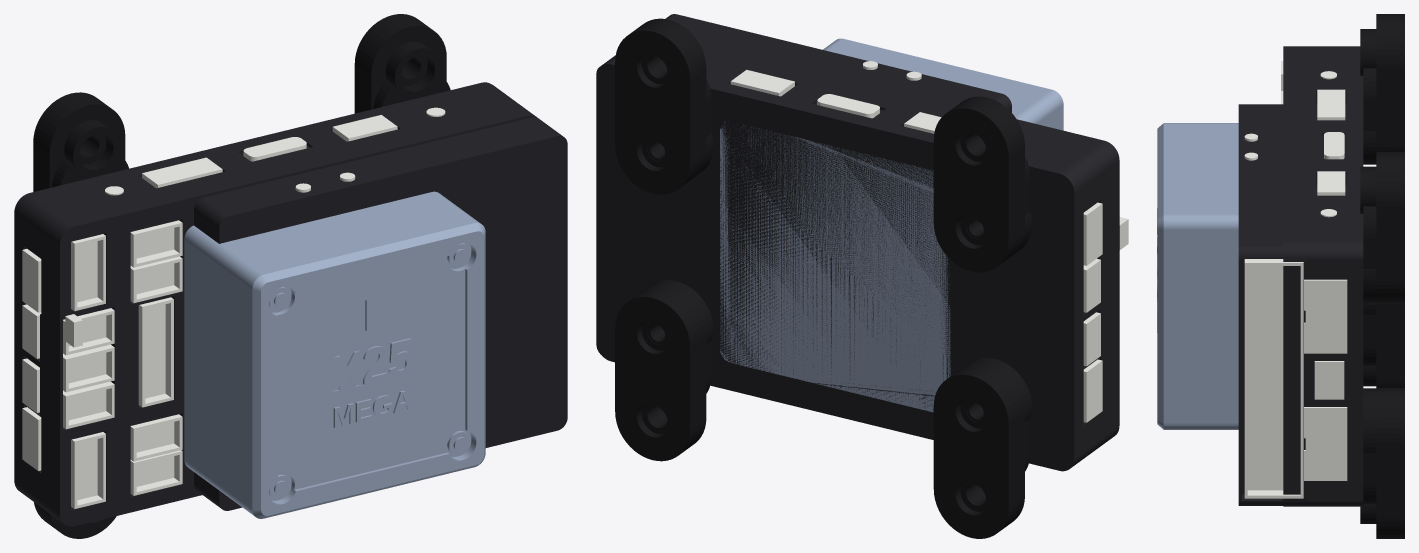
Rendered from CUAV_X25_MEGA_colored.obj.
3 views of the same model, side by side, from view 1: azimuth 30°, elevation 25°; view 2: azimuth 150°, elevation 25°; view 3: azimuth 270°, elevation 25° (orthographic). The views are drawn at different scales.
Visible parts, largest first — view 1: x25_body, x25_core, x25_ports, x25_mounts; view 2: x25_body, x25_mounts, x25_core, x25_ports; view 3: x25_body, x25_core, x25_mounts, x25_ports.
Part boxes in pixels (bbox=[...]): x25_body: bbox=[14, 82, 567, 526]; x25_core: bbox=[184, 191, 485, 518]; x25_ports: bbox=[22, 107, 445, 509]; x25_mounts: bbox=[33, 14, 450, 538]; x25_body: bbox=[596, 14, 1119, 471]; x25_mounts: bbox=[615, 18, 1032, 538]; x25_core: bbox=[720, 38, 1063, 412]; x25_ports: bbox=[730, 61, 1128, 422]; x25_body: bbox=[1238, 46, 1363, 506]; x25_core: bbox=[1157, 123, 1238, 429]; x25_mounts: bbox=[1360, 14, 1404, 538]; x25_ports: bbox=[1244, 61, 1347, 498].
Size of the model in its own units: 77.2 by 65.55 by 38.76.
